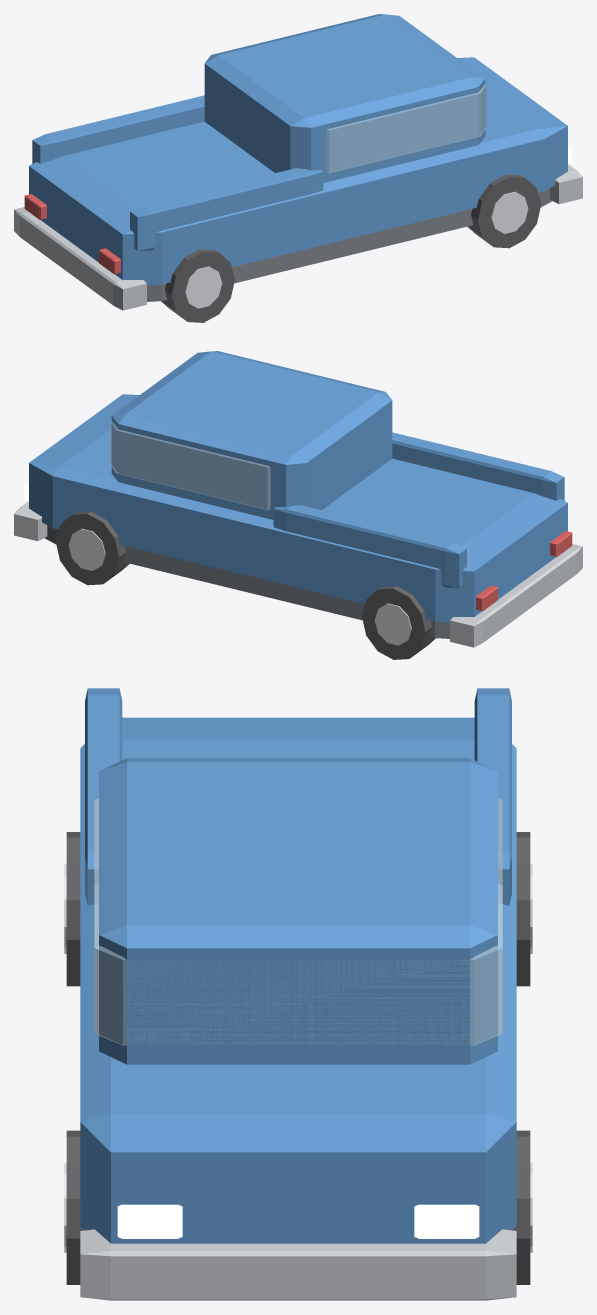
The model's file is b03_stepside_sport_pickup.glb.
3 renders of one model, top to bottom at view 1: azimuth 30°, elevation 25°; view 2: azimuth 150°, elevation 25°; view 3: azimuth 270°, elevation 25°, orthographic. The views are drawn at different scales.
Visible parts, largest first — view 1: b03_stepside_sport_pickup; view 2: b03_stepside_sport_pickup; view 3: b03_stepside_sport_pickup.
Boxes of the visible parts, bbox=[...] form: b03_stepside_sport_pickup: bbox=[14, 14, 582, 322]; b03_stepside_sport_pickup: bbox=[14, 351, 582, 659]; b03_stepside_sport_pickup: bbox=[64, 688, 532, 1300].
Size of the model in its own units: 5.08 by 1.73 by 2.22.
